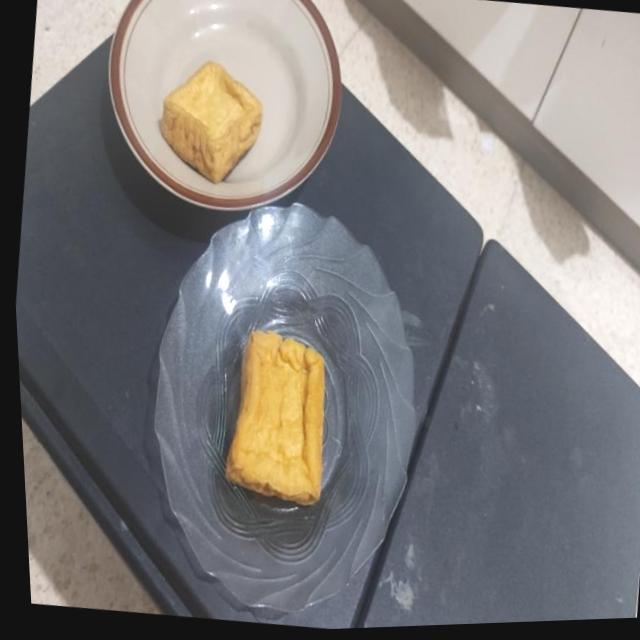tahu_goreng: (225, 330, 324, 504), (161, 61, 262, 183)
